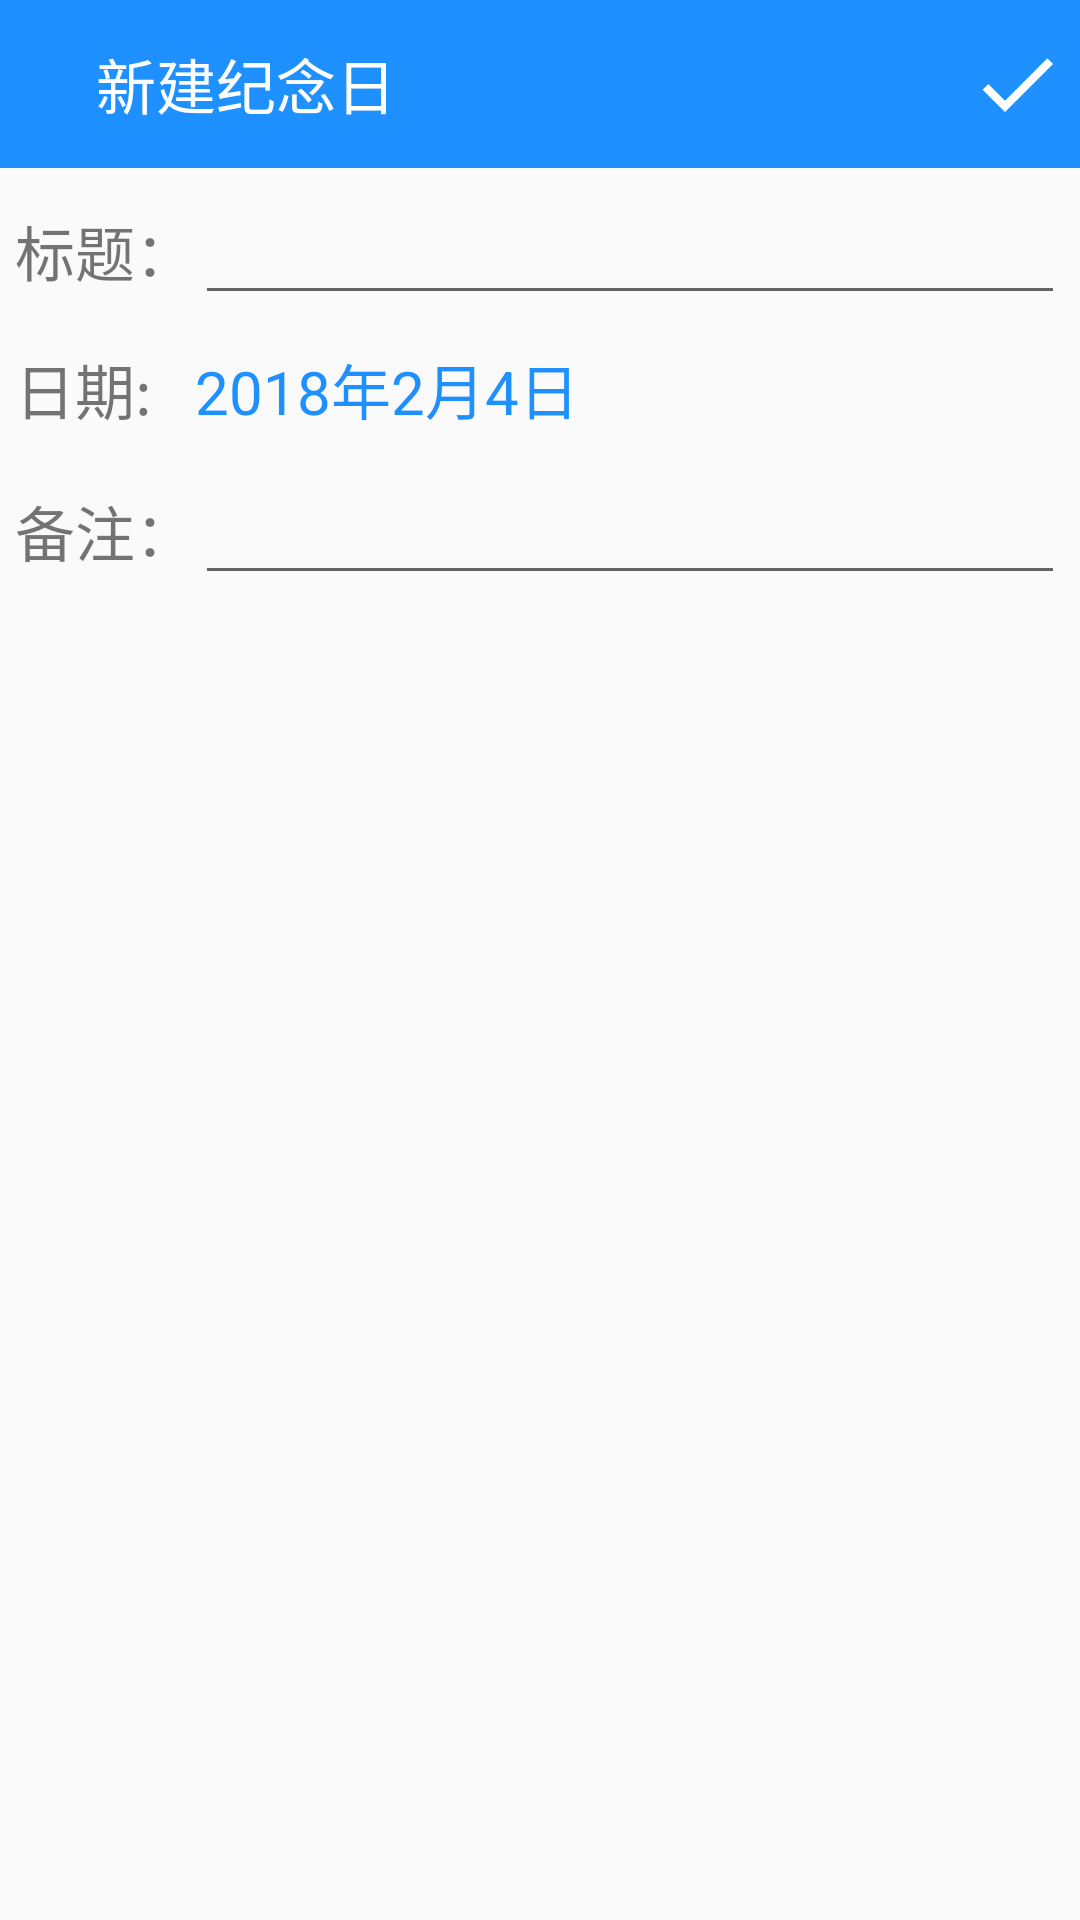

Screen size 1080×1920. Icon name, then its box in pixels as bbox=[x1, y1, x2, y2]:
save: bbox=[982, 58, 1053, 112]
